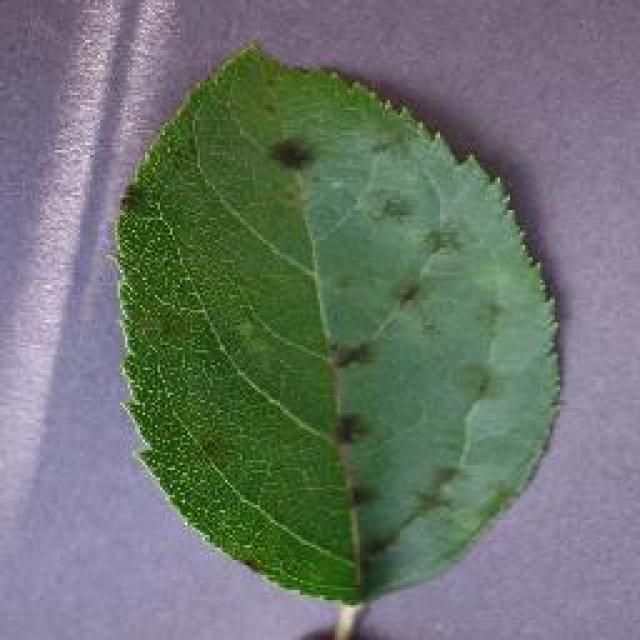apple scab disease: (110, 37, 565, 625)
